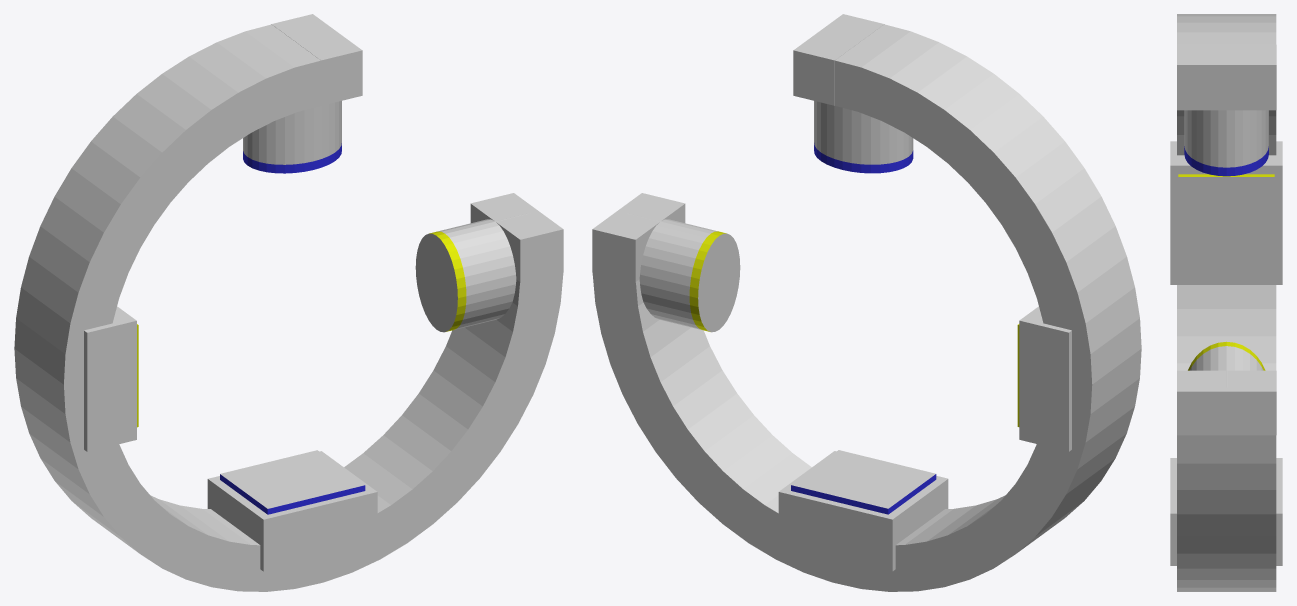
Rendered from CArm without bracket and with two projections.fbx.
3 views of the same model, side by side, from view 1: azimuth 30°, elevation 25°; view 2: azimuth 150°, elevation 25°; view 3: azimuth 270°, elevation 25° (orthographic).
Parts seen in each view (by area): view 1: C, Detektor2, Quelle1, Detektor1, Quelle2, Cube2, Cube1; view 2: C, Detektor2, Quelle1, Detektor1, Quelle2, Cube2, Cube1; view 3: C, Detektor1, Cube1, Cube2, Quelle2, Quelle1, Detektor2.
Part boxes in pixels (bbox=[...]): C: bbox=[14, 24, 563, 591]; Detektor2: bbox=[207, 450, 377, 571]; Quelle1: bbox=[415, 213, 529, 332]; Detektor1: bbox=[84, 306, 138, 451]; Quelle2: bbox=[243, 101, 341, 173]; Cube2: bbox=[470, 193, 563, 282]; Cube1: bbox=[271, 14, 362, 105]; C: bbox=[592, 24, 1141, 591]; Detektor2: bbox=[778, 450, 948, 571]; Quelle1: bbox=[626, 213, 740, 332]; Detektor1: bbox=[1017, 306, 1071, 451]; Quelle2: bbox=[814, 101, 913, 173]; Cube2: bbox=[592, 193, 685, 282]; Cube1: bbox=[793, 14, 884, 105]; C: bbox=[1177, 14, 1276, 591]; Detektor1: bbox=[1170, 141, 1282, 284]; Cube1: bbox=[1177, 44, 1276, 110]; Cube2: bbox=[1177, 370, 1276, 435]; Quelle2: bbox=[1184, 110, 1268, 176]; Quelle1: bbox=[1188, 341, 1265, 387]; Detektor2: bbox=[1170, 458, 1282, 565].
Size of the model in its own units: 3.7 by 3.69 by 0.7162.
